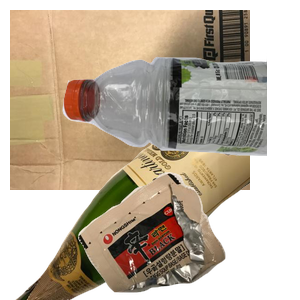cardboard: (10, 10, 250, 190)
glass: (13, 120, 253, 300)
plastic: (60, 53, 300, 201)
trash: (76, 170, 300, 300)
